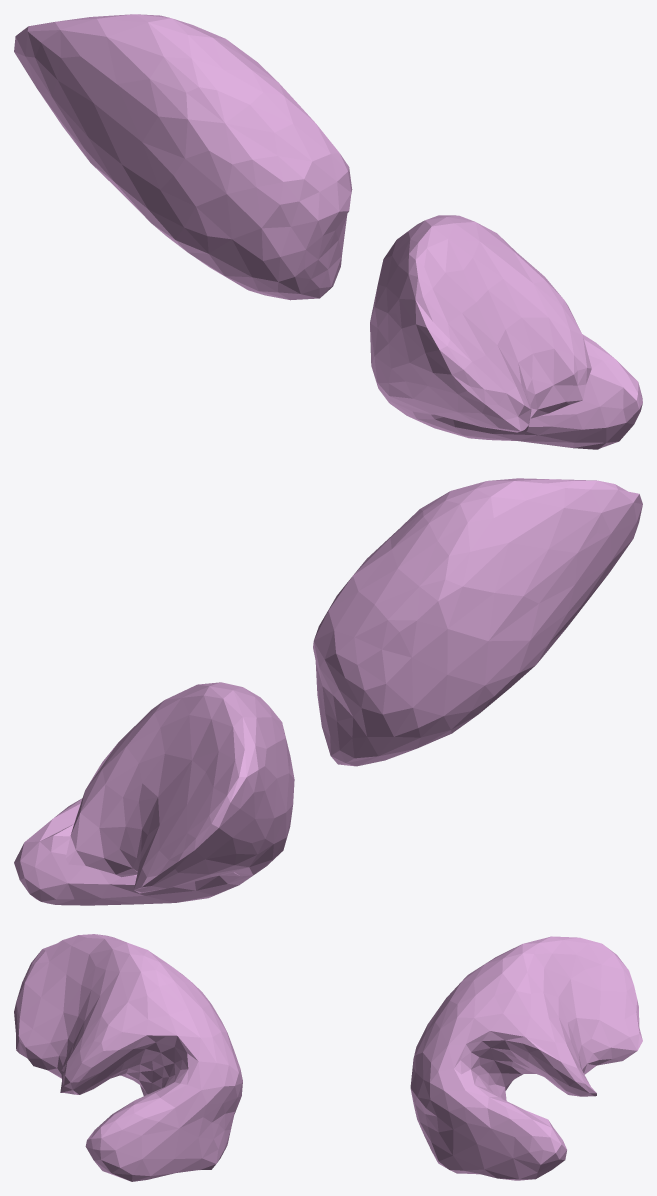
The picture shows the model from 3 angles, top to bottom: view 1: azimuth 30°, elevation 25°; view 2: azimuth 150°, elevation 25°; view 3: azimuth 270°, elevation 25°; orthographic projection. The views are drawn at different scales.
Visible parts, largest first — view 1: 749.obj; view 2: 749.obj; view 3: 749.obj.
Boxes of the visible parts, bbox=[...] form: 749.obj: bbox=[14, 14, 642, 449]; 749.obj: bbox=[14, 478, 642, 905]; 749.obj: bbox=[14, 934, 642, 1181].
Bounding box in the file's own units: 875 × 851 × 2570.
